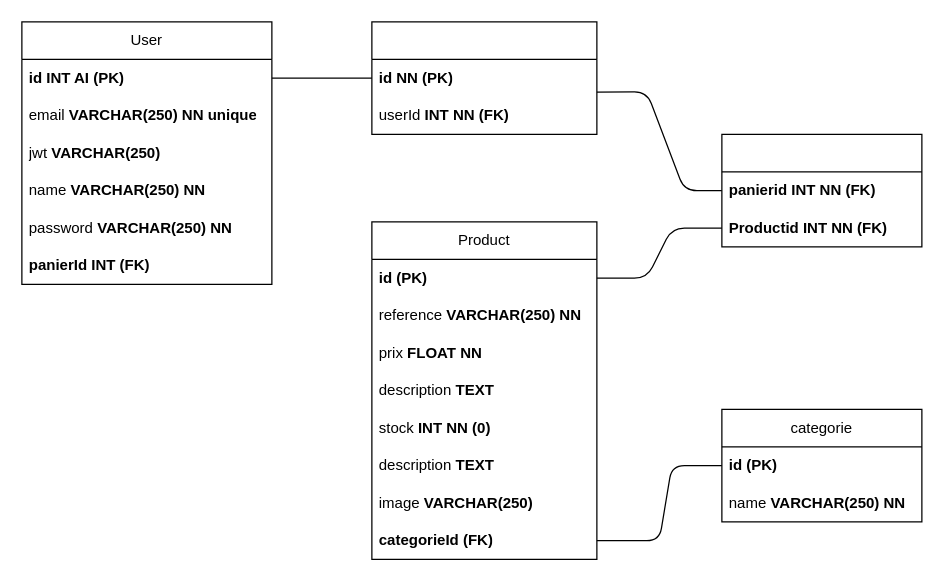
This 944x581 diagram has some shape labels left out. The shapes that lost their labels are listed below. From the top down, each one's box as (x1, y1, x2, y2) in pixels, then its label:
(371, 21, 597, 134): Panier
(721, 133, 922, 247): Mettre au panier
